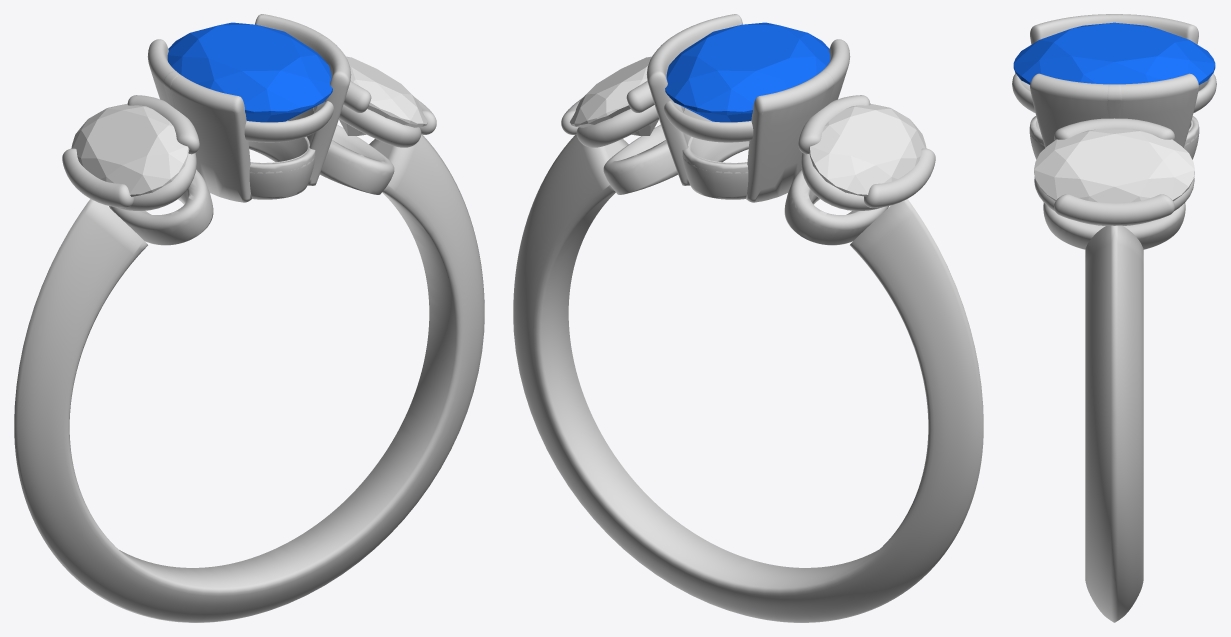
The model's file is bluesapphire-oval-platinum-halfmoonbezel-knifeedge-3stone.glb.
The picture shows the model from 3 angles, left to right: view 1: azimuth 30°, elevation 25°; view 2: azimuth 150°, elevation 25°; view 3: azimuth 270°, elevation 25°; orthographic projection. The views are drawn at different scales.
Parts seen in each view (by area): view 1: metal, stone.003, side.006, side.007; view 2: metal, stone.003, side.006, side.007; view 3: metal, side.007, stone.003.
Part boxes in pixels (<box>): metal: <box>14,14,484,622</box>; stone.003: <box>167,22,332,122</box>; side.006: <box>71,103,189,196</box>; side.007: <box>339,56,427,135</box>; metal: <box>513,14,983,622</box>; stone.003: <box>665,22,830,122</box>; side.006: <box>808,103,926,196</box>; side.007: <box>570,56,658,135</box>; metal: <box>1012,14,1216,622</box>; side.007: <box>1034,129,1194,202</box>; stone.003: <box>1013,22,1215,84</box>.
Size of the model in its own units: 20.1 by 23.2 by 7.75.
